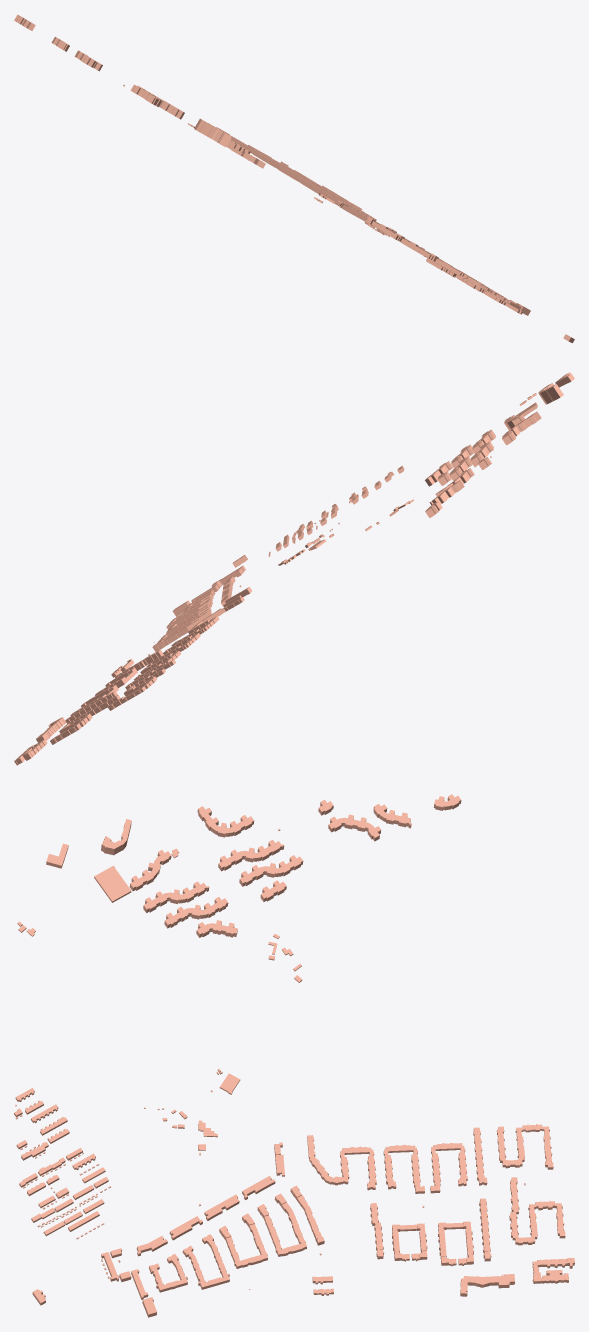
3 views of the same model, one above another, from view 1: azimuth 30°, elevation 25°; view 2: azimuth 150°, elevation 25°; view 3: azimuth 270°, elevation 25° (orthographic). The views are drawn at different scales.
Size of the model in its own units: 1054 by 774 by 1221.
